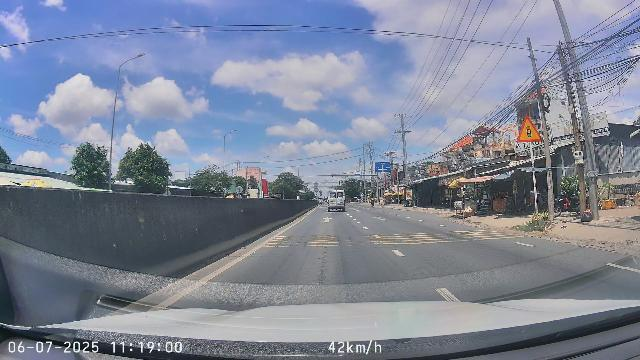209-giao-nhau-co-tin-hieu-den: (517, 115, 542, 142)
